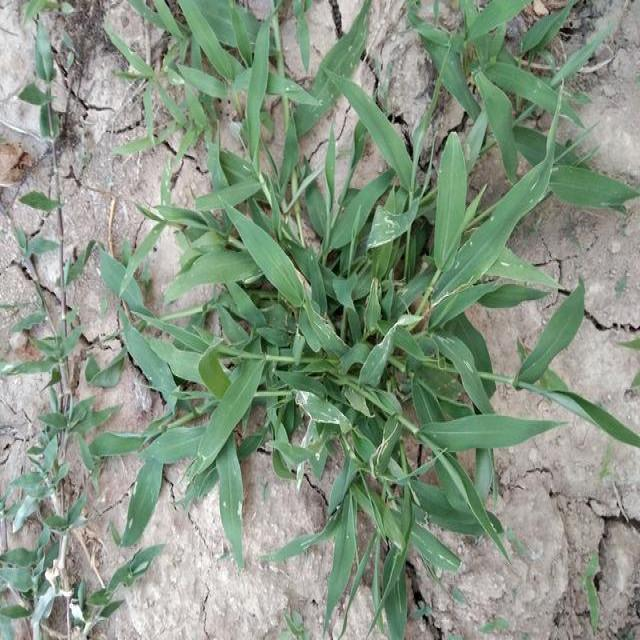weed: (163, 6, 636, 563), (0, 44, 187, 636)
